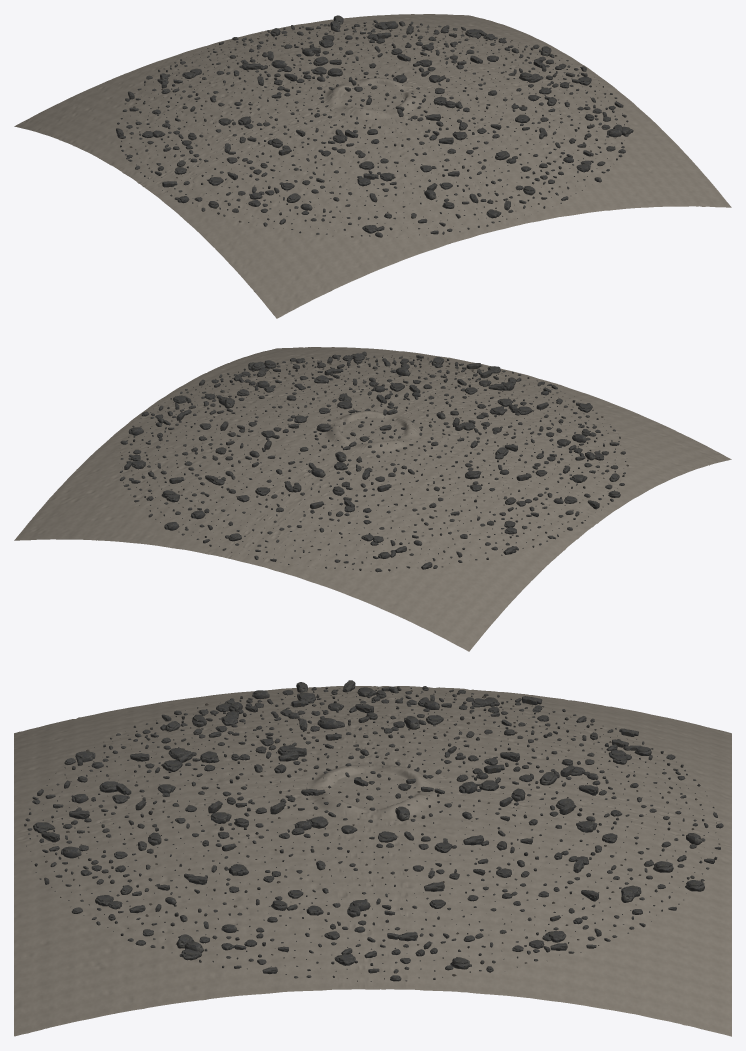
The model's file is terrain-skirmish-1v1 - Copy (2).glb.
The picture shows the model from 3 angles, top to bottom: view 1: azimuth 30°, elevation 25°; view 2: azimuth 150°, elevation 25°; view 3: azimuth 270°, elevation 25°; orthographic projection. The views are drawn at different scales.
Parts seen in each view (by area): view 1: Moon_1, Moon_0; view 2: Moon_1, Moon_0; view 3: Moon_1, Moon_0.
Boxes of the visible parts, x1,y1,x2,y2 form: Moon_1: [14, 14, 731, 318]; Moon_0: [338, 79, 407, 109]; Moon_1: [14, 347, 731, 651]; Moon_0: [338, 412, 407, 442]; Moon_1: [14, 686, 731, 1036]; Moon_0: [337, 770, 408, 805].
Bounding box in the file's own units: 2040 × 317 × 2040.
6 materials, 6 textured.
